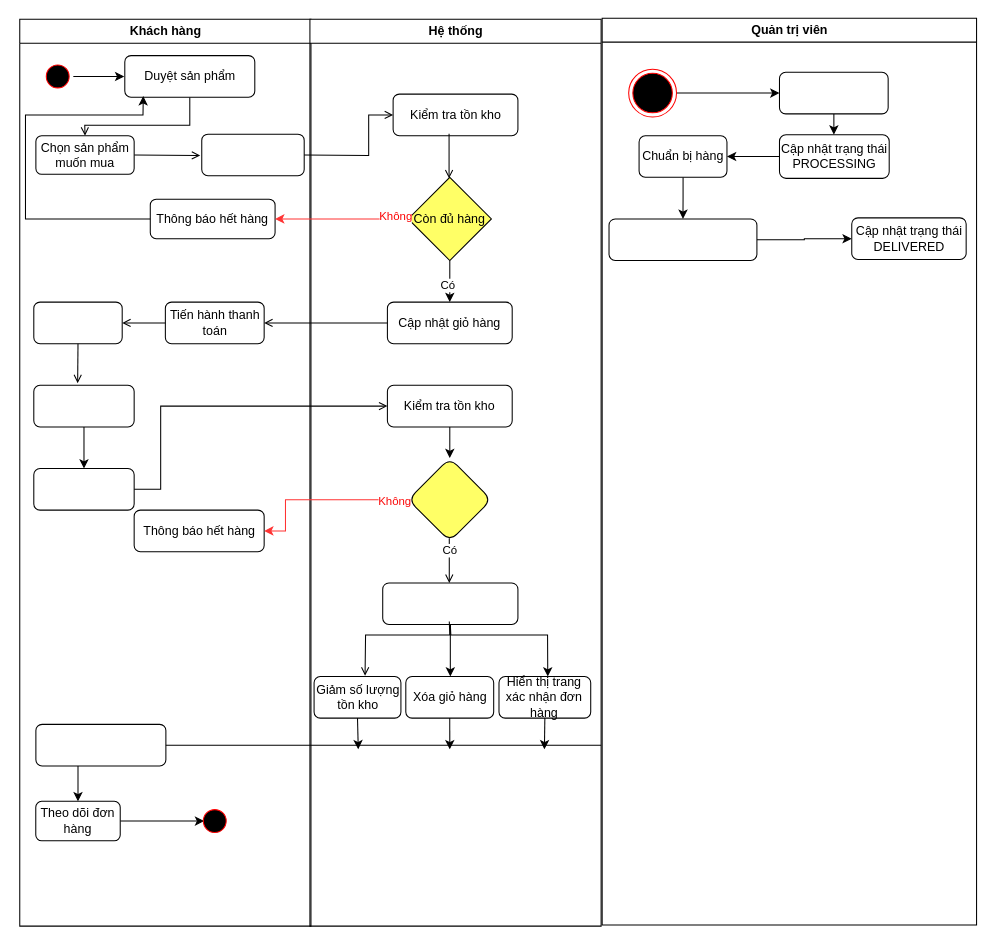
Image size: 995x944. Some labels were removed from this diagram. The centre of each missing label's shape, as x and y in pixels:
"Chọn phương thức thanh toán" belongs at [83,405].
"Còn đủ hàng ?" belongs at [449,499].
"Cập nhật trạng thái SHIPPED + mã vận đơn" belongs at [682,239].
"Nhận thông báo đặt hàng thành công" belongs at [100,744].
"Nhập thông tin giao hàng" belongs at [77,322].
"Thêm sản phẩm vào giỏ hàng" belongs at [252,154].
"Tạo đơn hàng PENDING" belongs at [450,603].
"Xem đơn hàng mới" belongs at [833,92].
"Xác nhận đặt hàng" belongs at [83,488].
